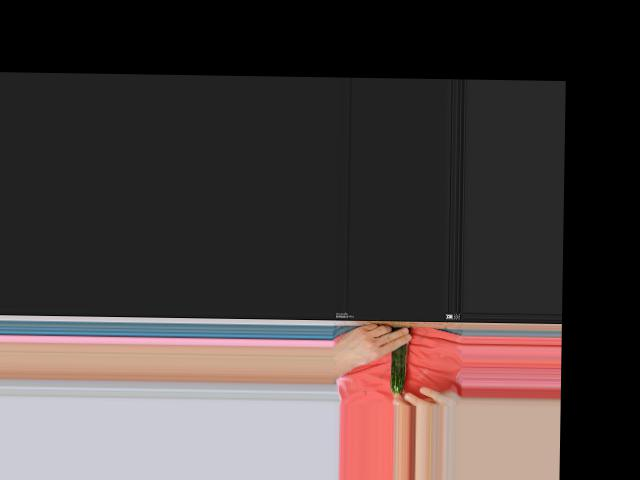cucumber: (389, 342, 406, 393)
